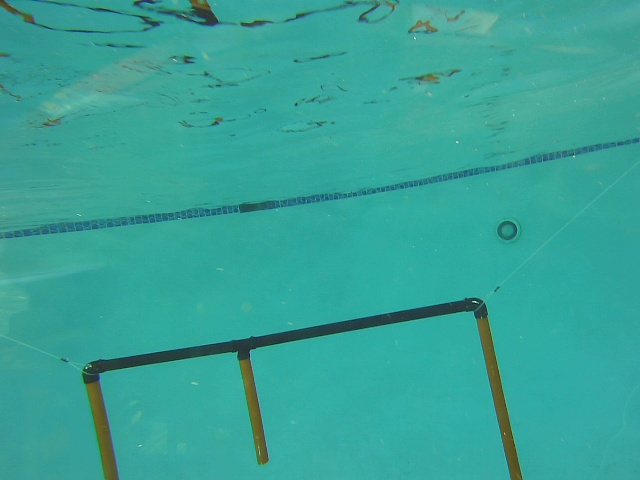Gate: (473, 310, 526, 480), (235, 351, 271, 470), (84, 379, 121, 480)
